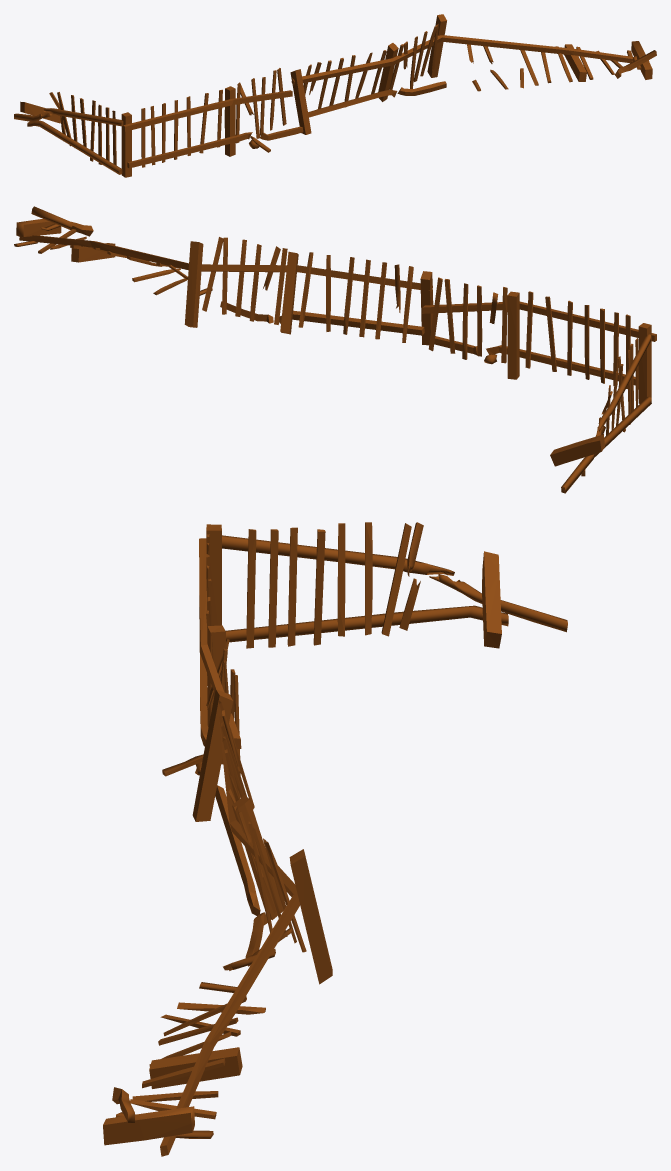
The model's file is fence01.fbx.
3 views of the same model, one above another, from view 1: azimuth 30°, elevation 25°; view 2: azimuth 150°, elevation 25°; view 3: azimuth 270°, elevation 25° (orthographic). The views are drawn at different scales.
Parts seen in each view (by area): view 1: Abandoned House.001; view 2: Abandoned House.001; view 3: Abandoned House.001.
Part boxes in pixels (x1,y1,x2,y2): Abandoned House.001: (14, 14, 656, 177); Abandoned House.001: (14, 206, 656, 493); Abandoned House.001: (103, 522, 567, 1156).
Size of the model in its own units: 1108 by 136 by 409.
